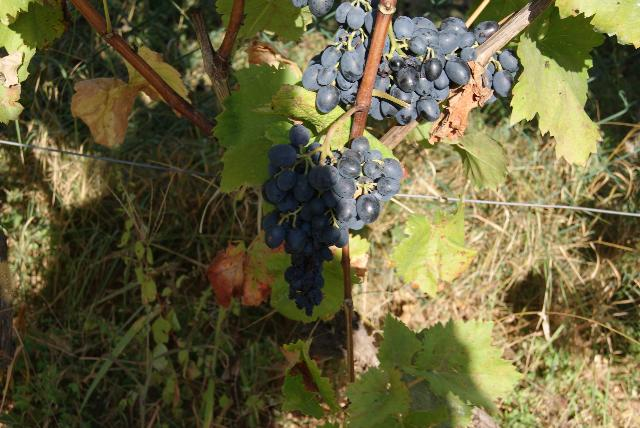grapes: (262, 124, 401, 316), (369, 16, 499, 125), (301, 0, 380, 112), (489, 50, 519, 96), (292, 0, 332, 16)
